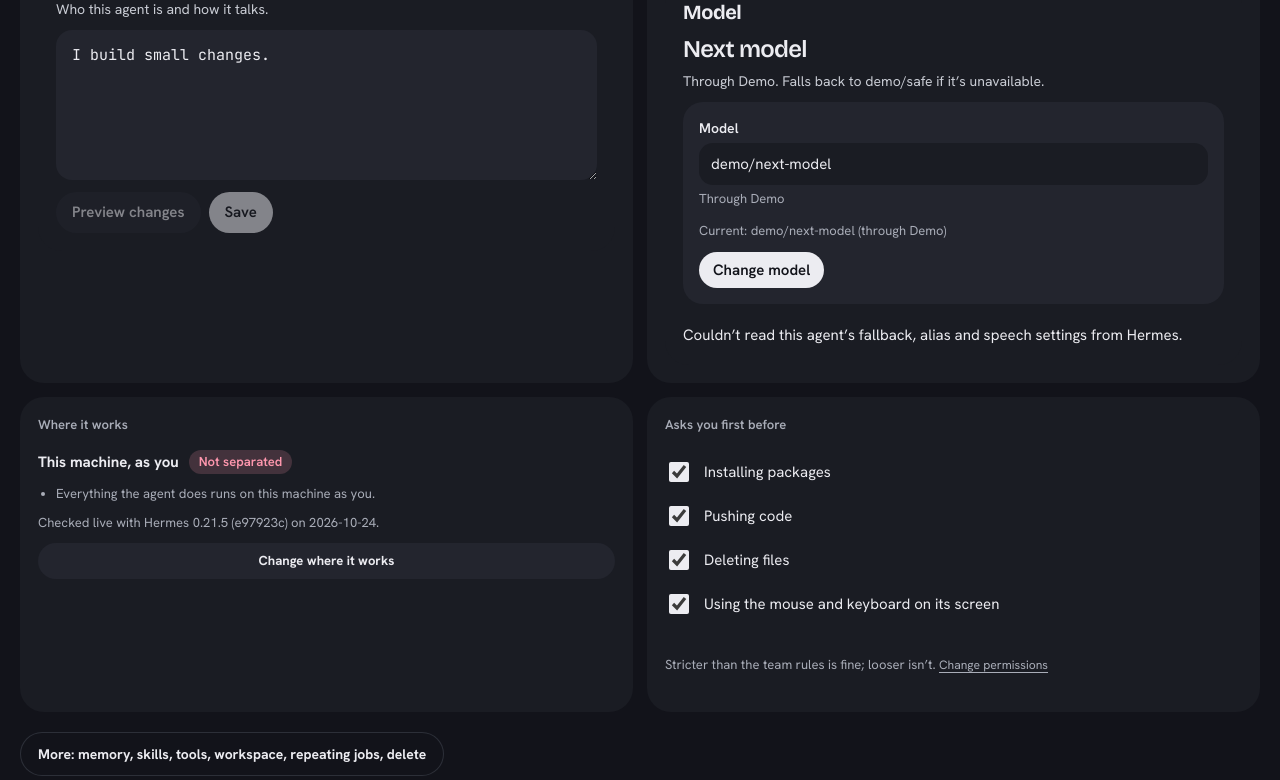
Test: Where it works says exactly what Docker separates and changes through the API
(page scrolled)
Expected: the text "Not separated" is shown, x1=189 y1=450 x2=292 y2=474
Click the button "Change where it works".
click(326, 561)  # box x1=38 y1=543 x2=615 y2=579
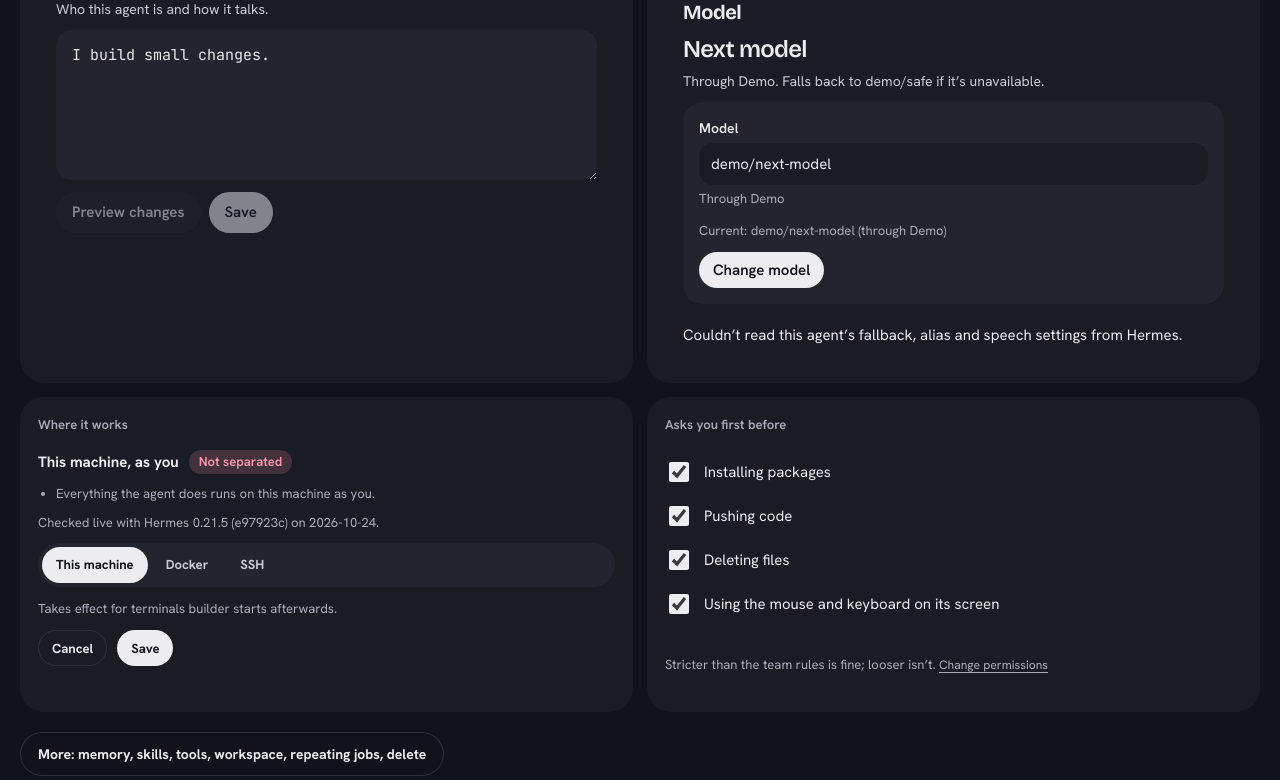
Click the radio button labelled "Docker".
click(187, 565)  # box x1=152 y1=547 x2=222 y2=583
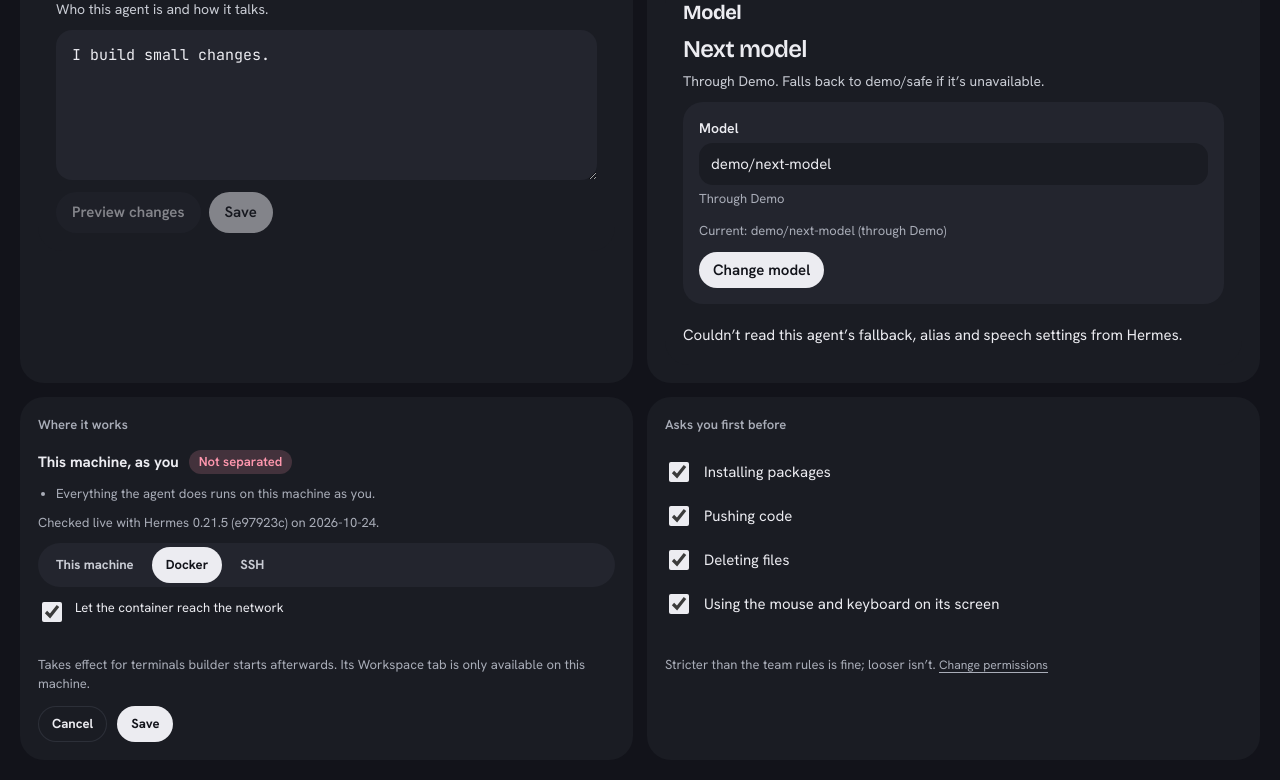
Click the checkbox labelled "Let the container reach the network".
click(52, 612)  # box x1=42 y1=602 x2=62 y2=622
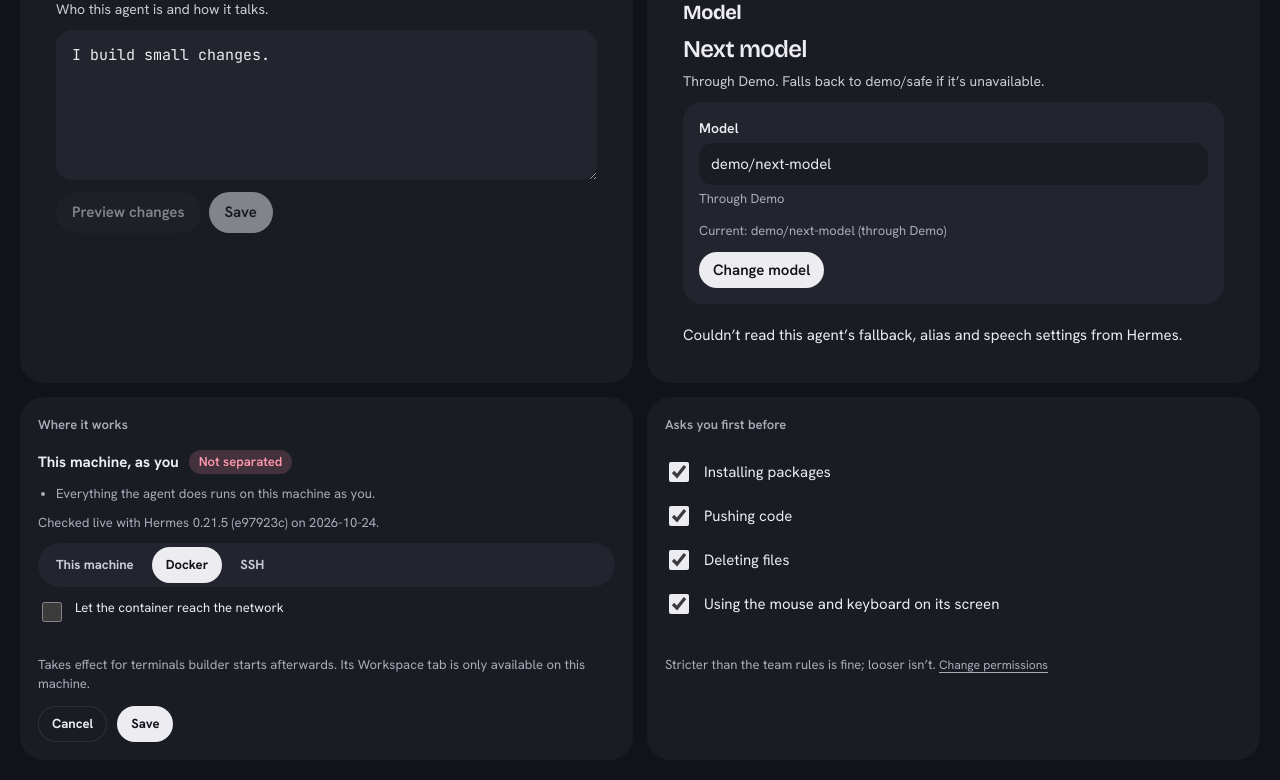
Click the button "Save" below "Takes effect for terminals".
click(145, 724)  # box x1=117 y1=706 x2=174 y2=742
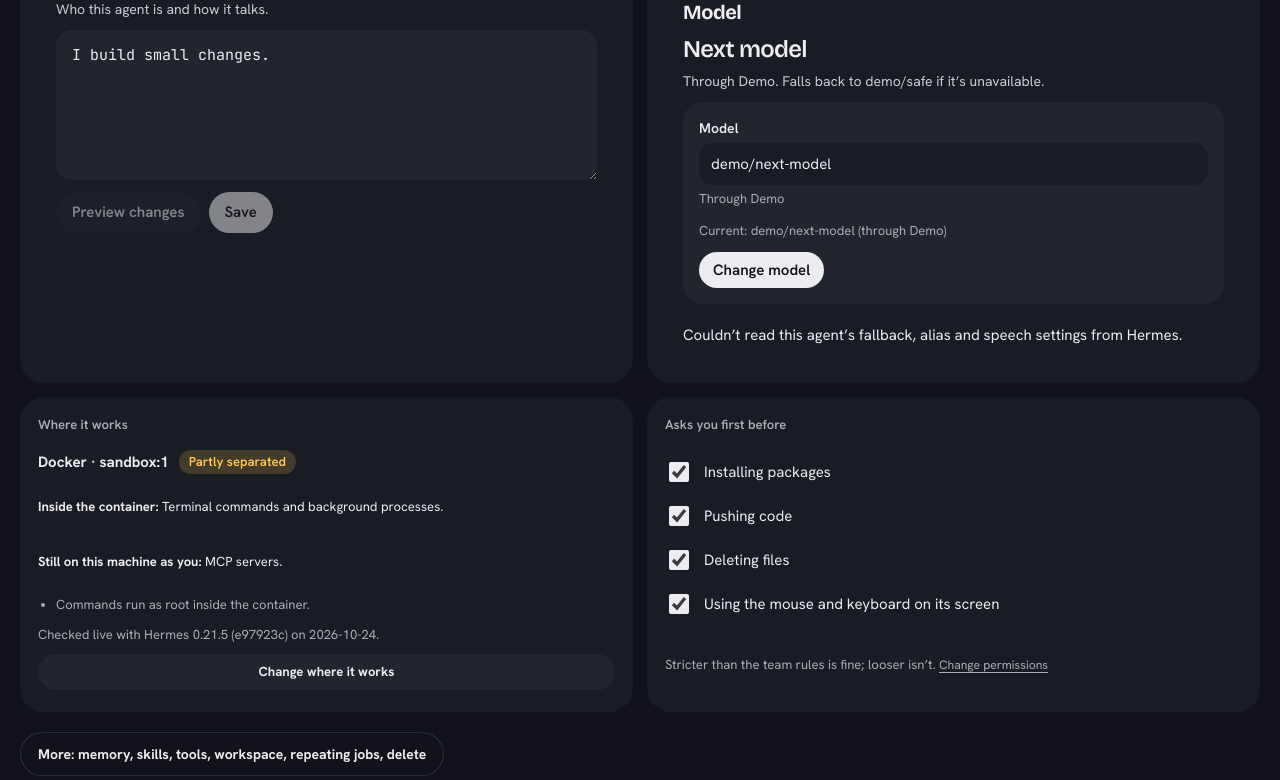
Expected: the text "Partly separated" is shown, x1=179 y1=450 x2=296 y2=474
Expected: the text "Still on this machine as you:" is shown, x1=38 y1=553 x2=202 y2=570
Expected: the text "Still on this machine as you: MCP servers." is shown, x1=38 y1=553 x2=282 y2=570
